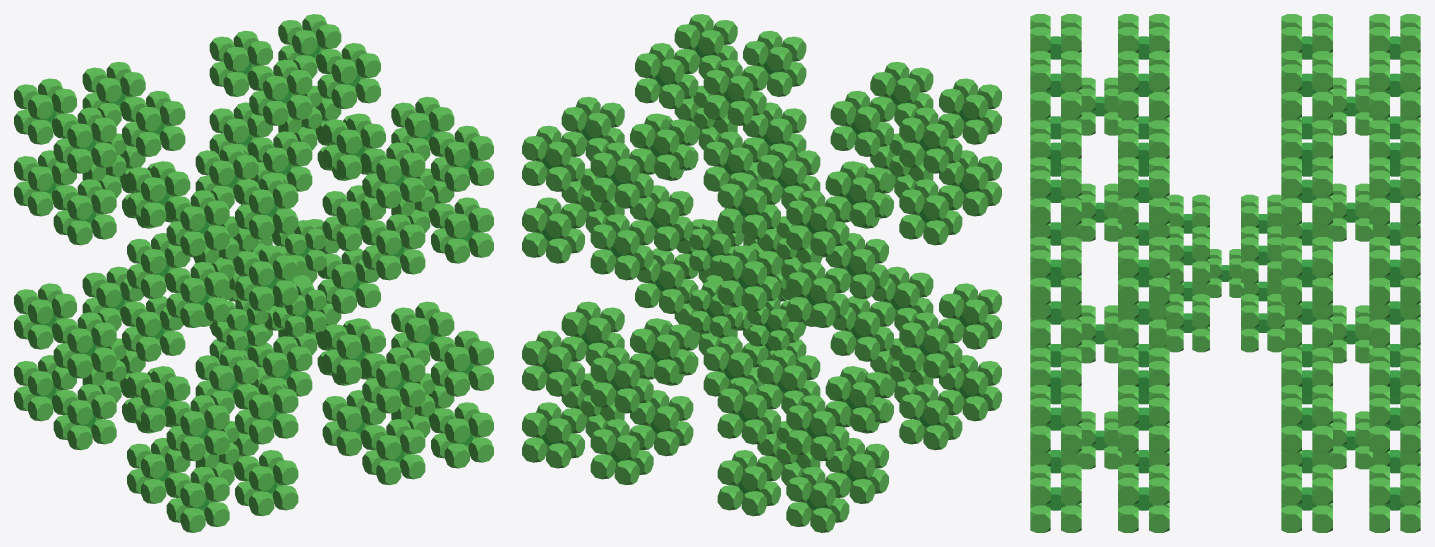
The model's file is fractaltruncatedcube3.glb.
3 renders of one model, left to right at view 1: azimuth 30°, elevation 25°; view 2: azimuth 150°, elevation 25°; view 3: azimuth 270°, elevation 25°, orthographic. The views are drawn at different scales.
Size of the model in its own units: 6.86 by 6.86 by 6.86.
